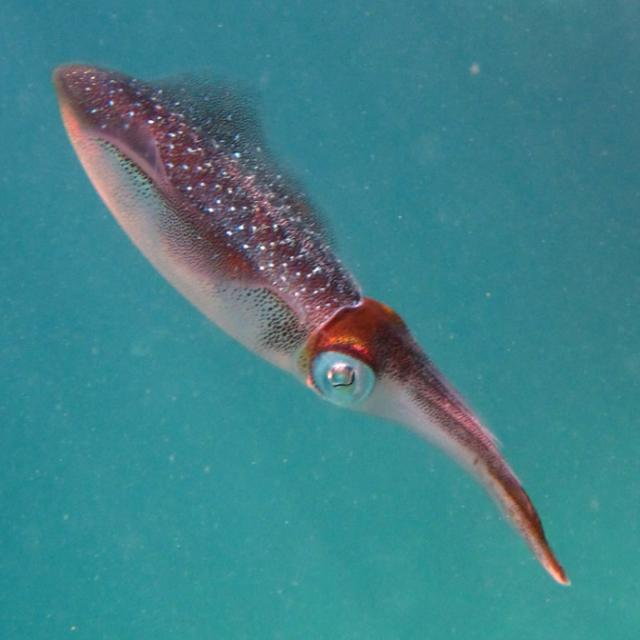SQUID: (51, 50, 571, 616)
